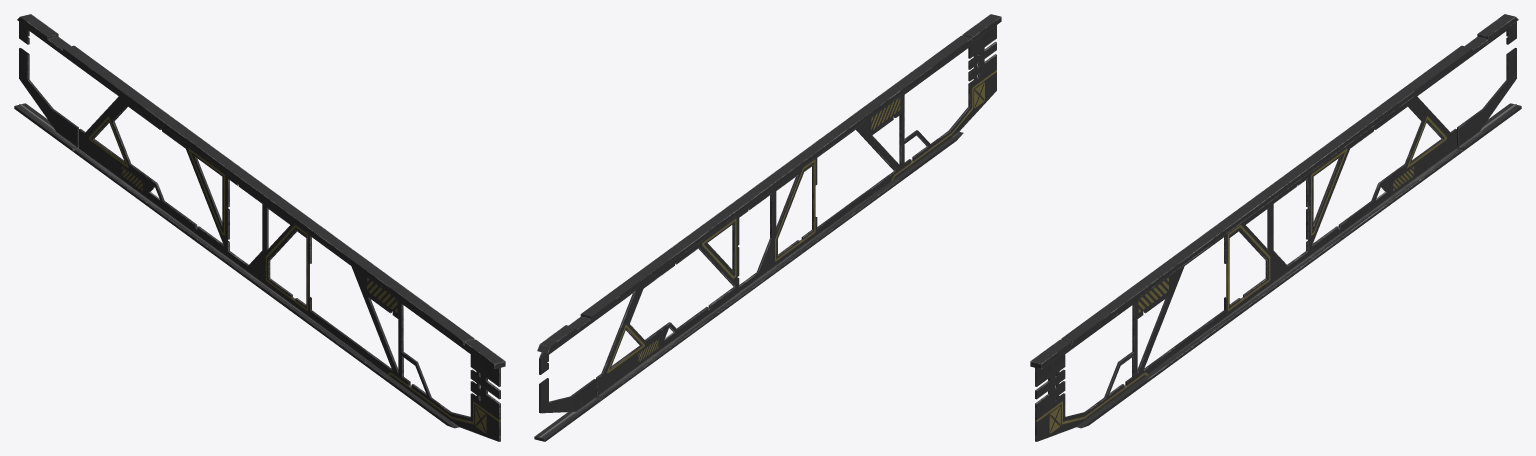
File: c067-opt.glb
The picture shows the model from 3 angles, left to right: view 1: azimuth 30°, elevation 25°; view 2: azimuth 150°, elevation 25°; view 3: azimuth 330°, elevation 25°; orthographic projection. The views are drawn at different scales.
Parts seen in each view (by area): view 1: Cube.067; view 2: Cube.067; view 3: Cube.067.
Part boxes in pixels (x1,y1,x2,y2): Cube.067: (14, 14, 505, 441); Cube.067: (534, 14, 1001, 441); Cube.067: (1030, 14, 1521, 441).
Bounding box in the file's own units: 0.062 × 0.5009 × 4.53.
1 material, 1 textured.
